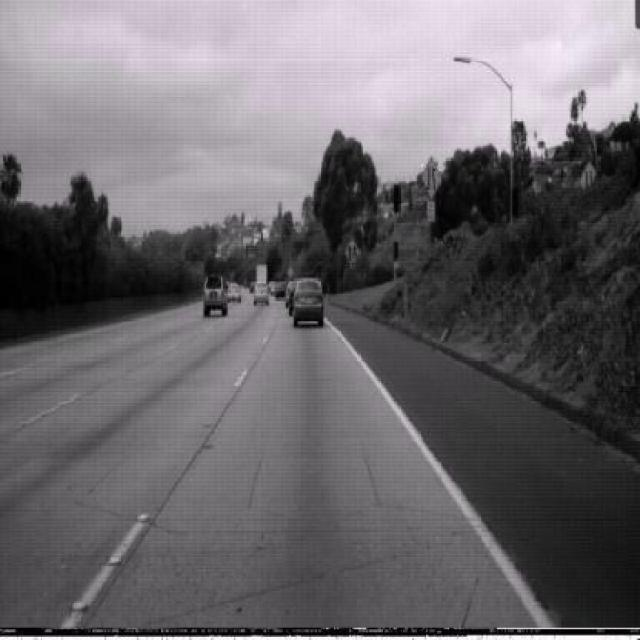addedLane: (344, 235, 360, 269)
laneEnds: (420, 156, 441, 198)
